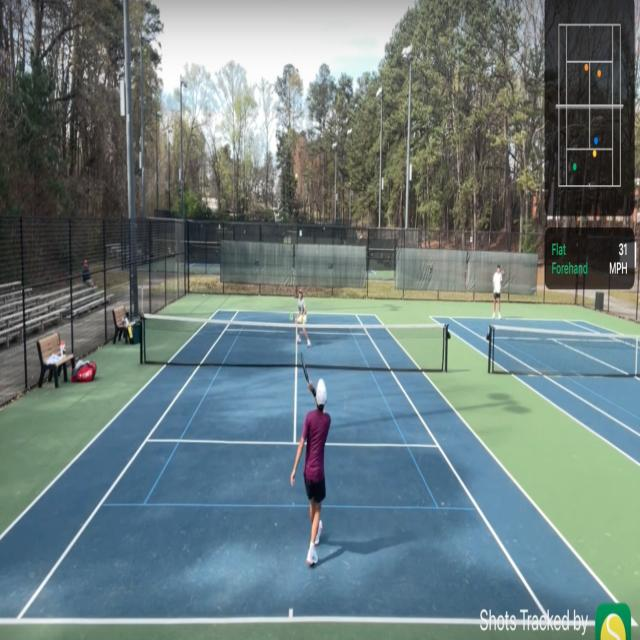ball: (295, 173, 298, 181)
